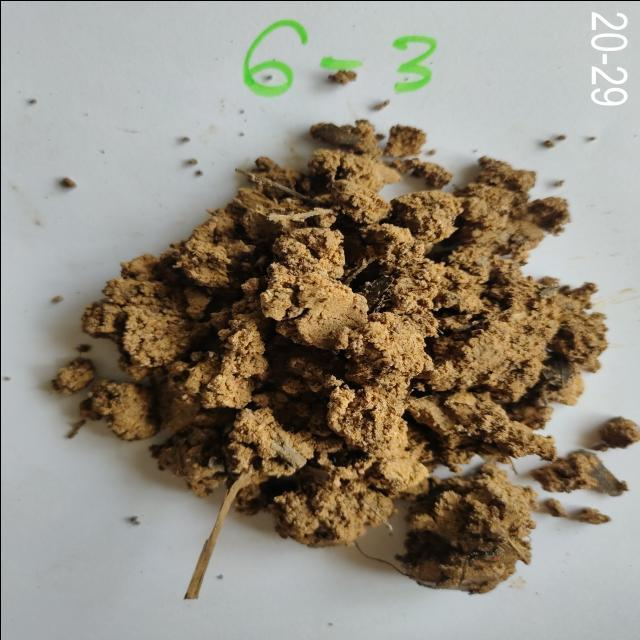soil: (218, 214, 524, 478)
